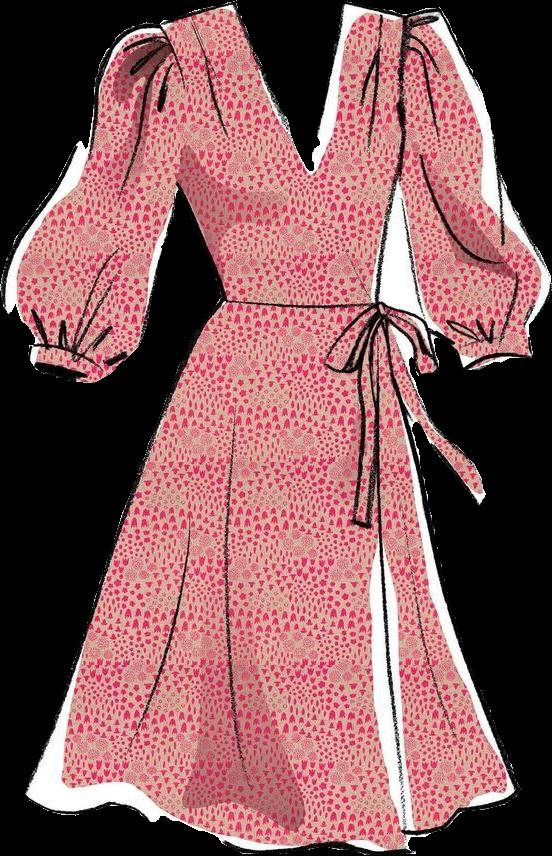Bodice: (163, 2, 407, 307)
Hemline: (22, 783, 526, 855)
Neckline: (227, 0, 353, 178)
Skirt: (26, 299, 520, 855)
Sleeve: (0, 22, 181, 382), (399, 8, 550, 369)
Sleeveline: (157, 22, 187, 192), (398, 13, 416, 171)
Waistline: (221, 293, 386, 312)
